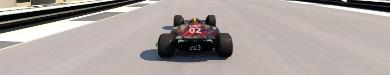Car: (155, 14, 233, 57)
curve: (0, 0, 389, 74)
obstacles-Borders: (0, 0, 150, 37)
